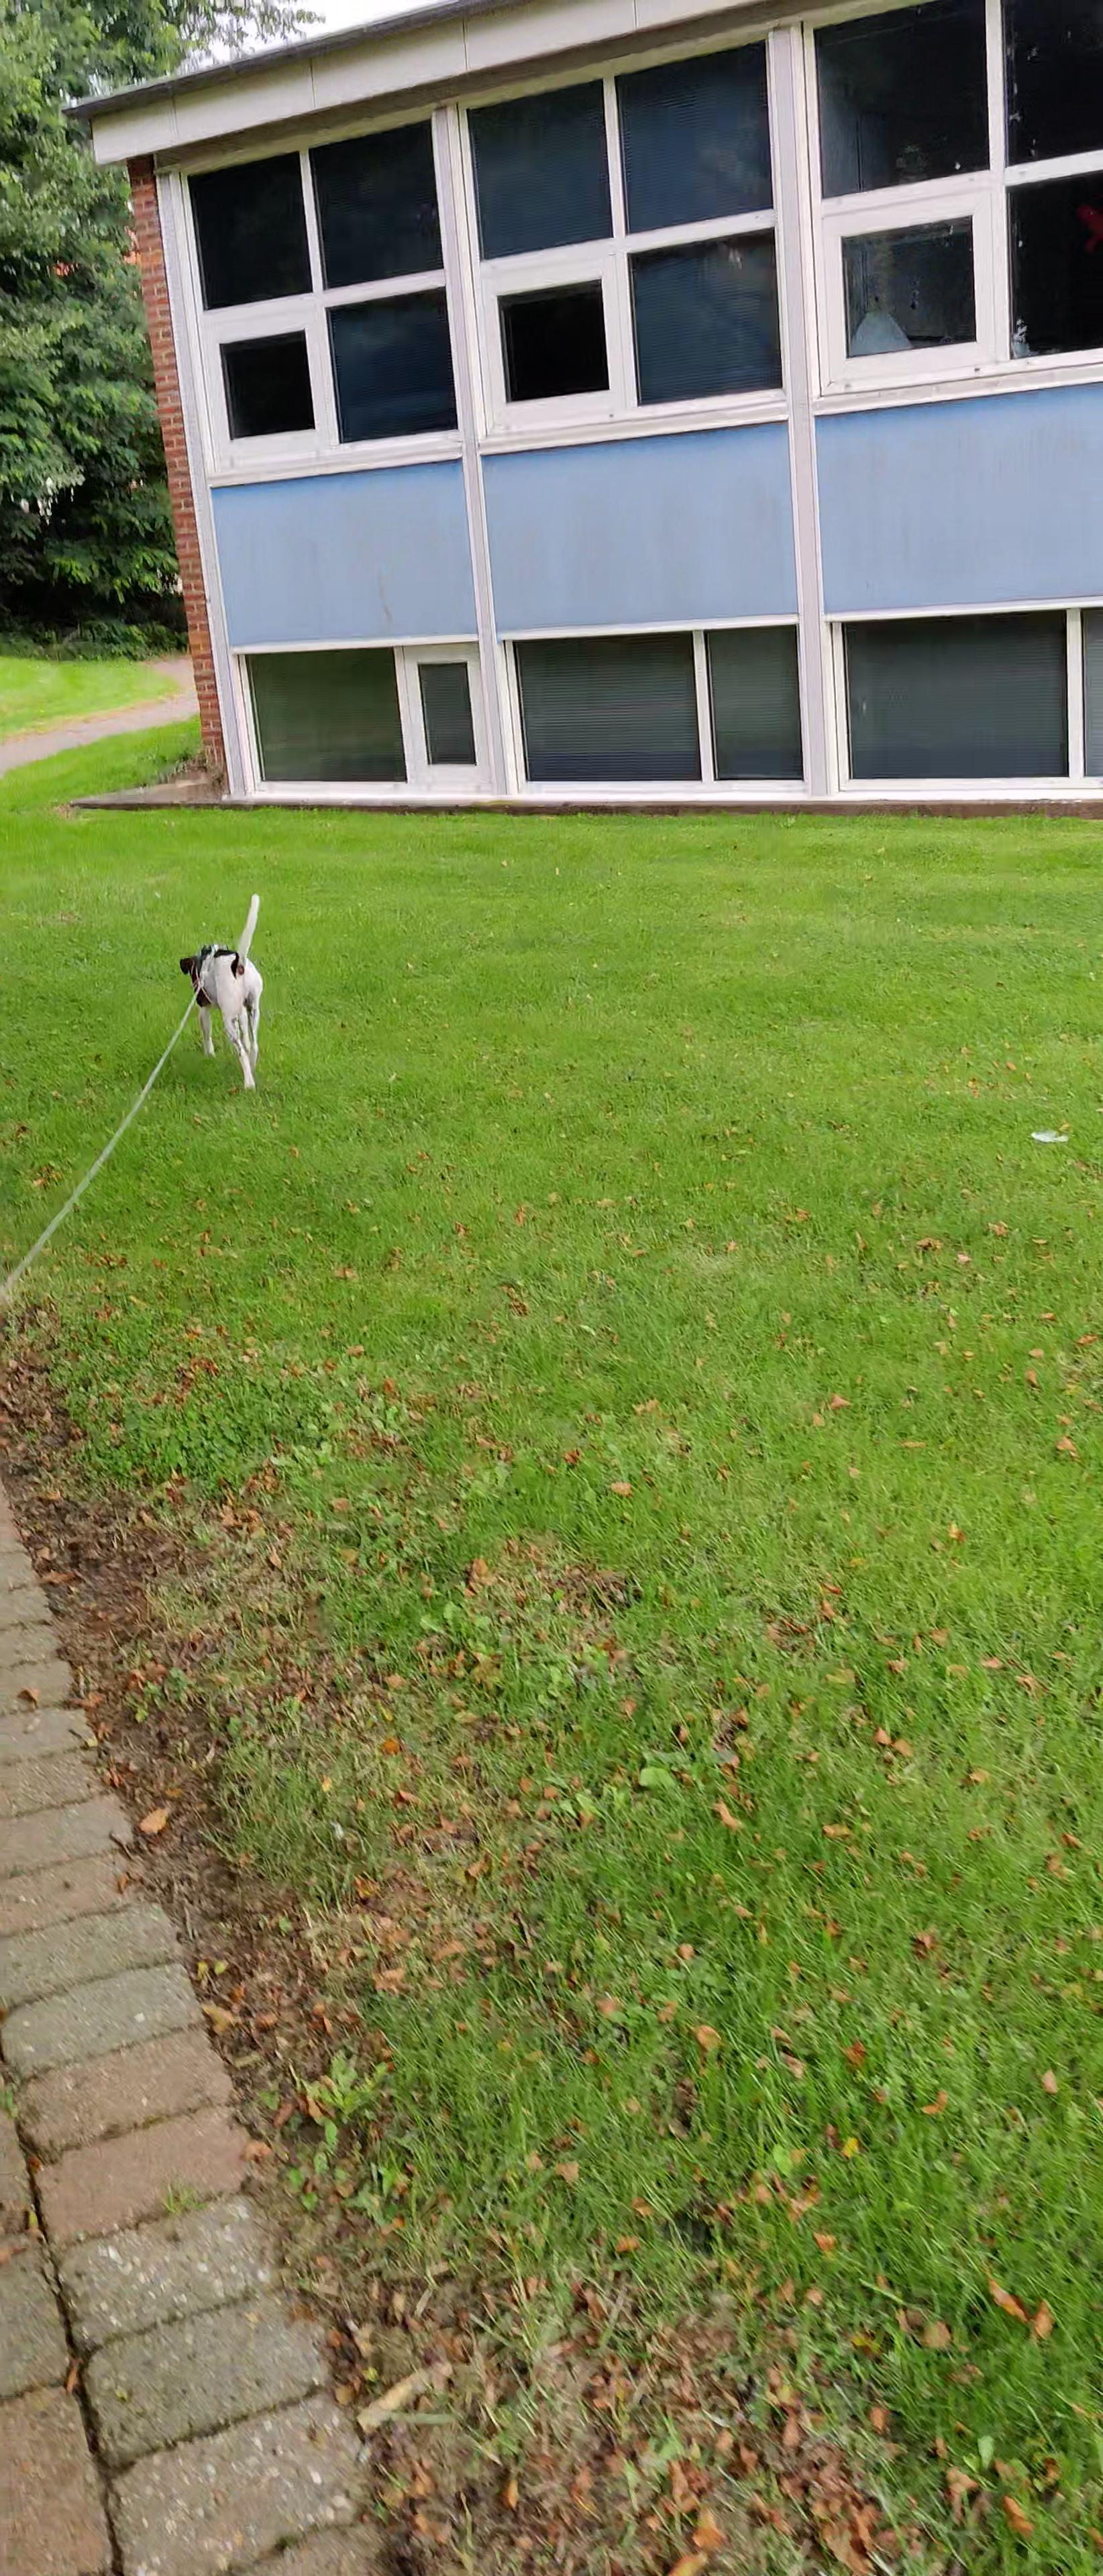Dog: (171, 885, 296, 1106)
